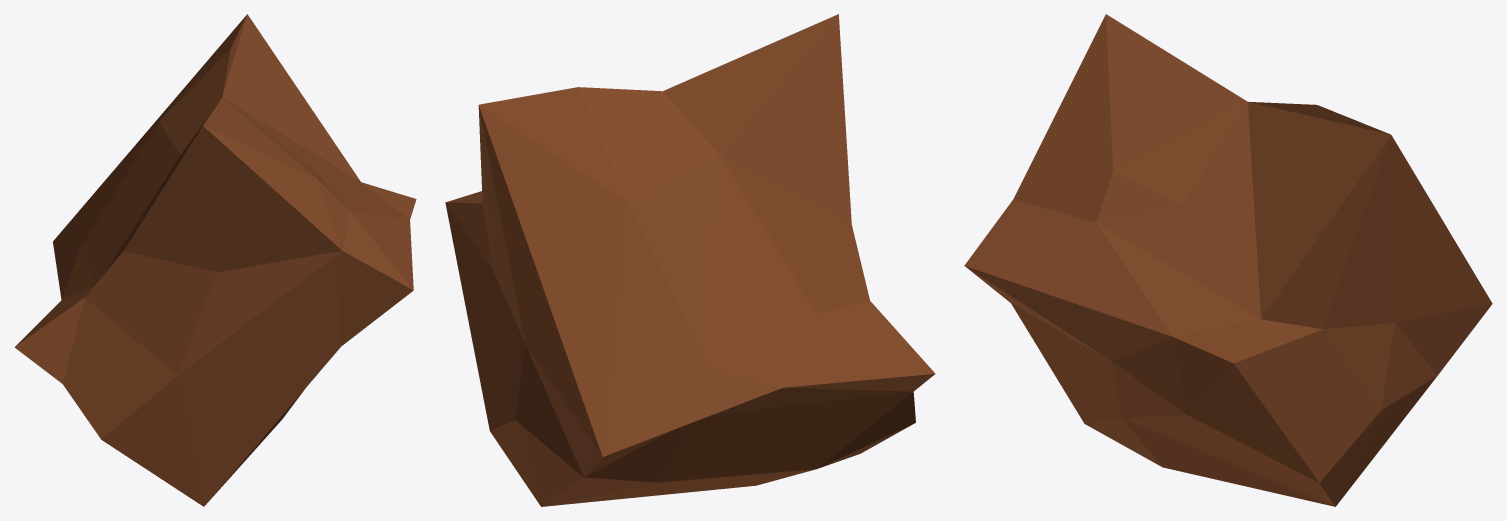
File: Boulder_05_Chunky.obj
3 views of the same model, side by side, from view 1: azimuth 30°, elevation 25°; view 2: azimuth 150°, elevation 25°; view 3: azimuth 270°, elevation 25° (orthographic). The views are drawn at different scales.
Parts seen in each view (by area): view 1: Boulder_05_Chunky; view 2: Boulder_05_Chunky; view 3: Boulder_05_Chunky.
Part boxes in pixels (<box>): Boulder_05_Chunky: <box>14,14,416,506</box>; Boulder_05_Chunky: <box>445,14,935,506</box>; Boulder_05_Chunky: <box>964,14,1492,506</box>.
Bounding box in the file's own units: 3.73 × 3.39 × 3.78.
